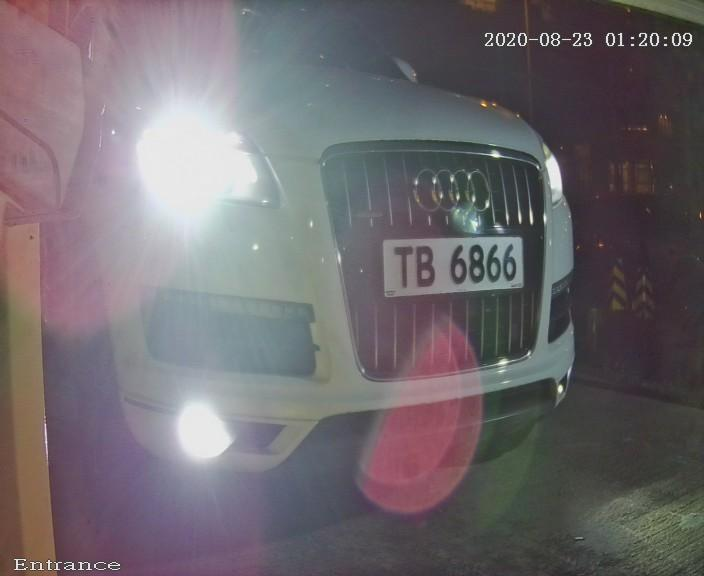License Plate: (348, 196, 552, 336)
